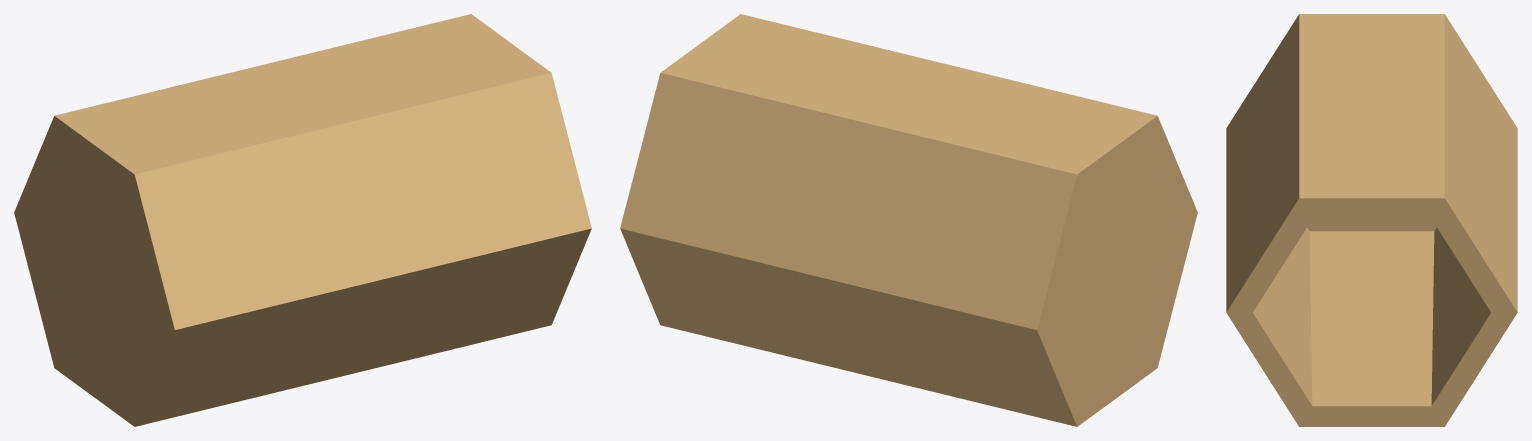
File: Bullet_07_2.fbx
3 renders of one model, left to right at view 1: azimuth 30°, elevation 25°; view 2: azimuth 150°, elevation 25°; view 3: azimuth 270°, elevation 25°, orthographic. The views are drawn at different scales.
Visible parts, largest first — view 1: Bullet_07_2; view 2: Bullet_07_2; view 3: Bullet_07_2.
Boxes of the visible parts, x1,y1,x2,y2 form: Bullet_07_2: (14,14,591,426); Bullet_07_2: (620,14,1197,426); Bullet_07_2: (1226,14,1517,426).
Bounding box in the file's own units: 0.056 × 0.0324 × 0.0374.
